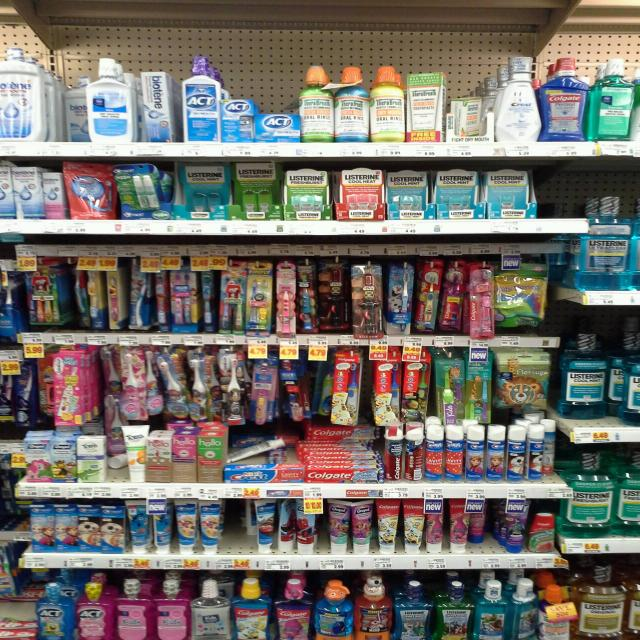unorganised: (243, 497, 318, 555), (417, 258, 463, 335), (321, 345, 364, 424), (326, 497, 376, 557), (225, 431, 298, 462), (157, 350, 189, 420), (506, 576, 541, 640), (277, 356, 309, 422), (448, 97, 489, 141), (62, 74, 87, 144), (307, 424, 381, 445), (66, 260, 88, 328), (98, 349, 125, 403), (403, 418, 424, 482), (543, 422, 559, 477), (468, 505, 485, 547), (108, 449, 127, 473)
